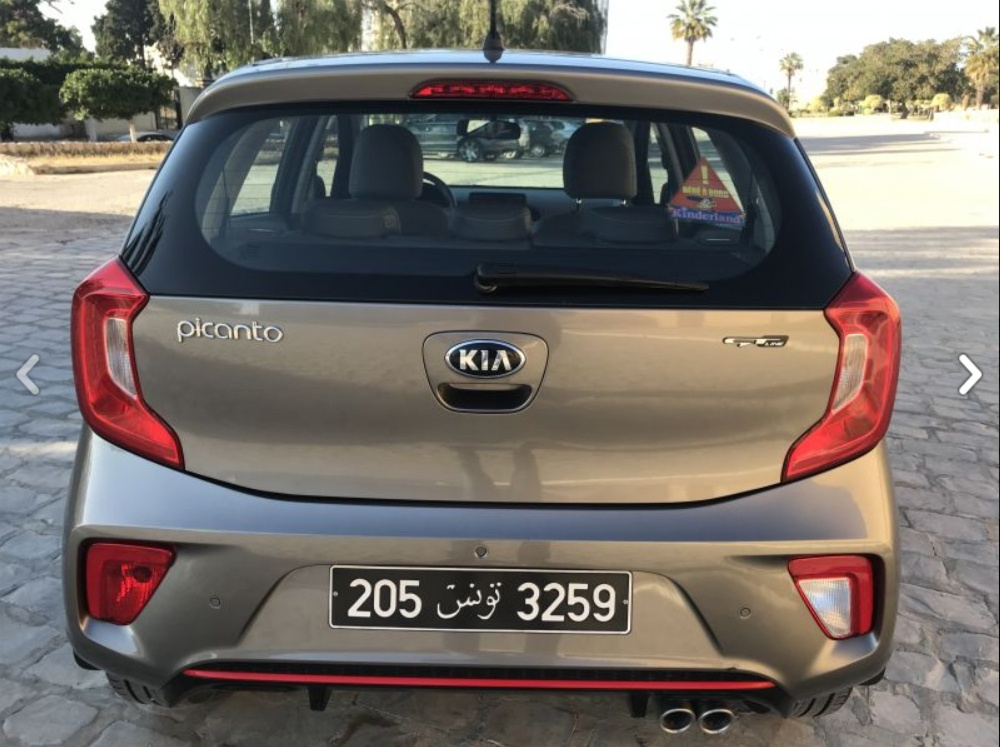LP: (321, 561, 638, 637)
